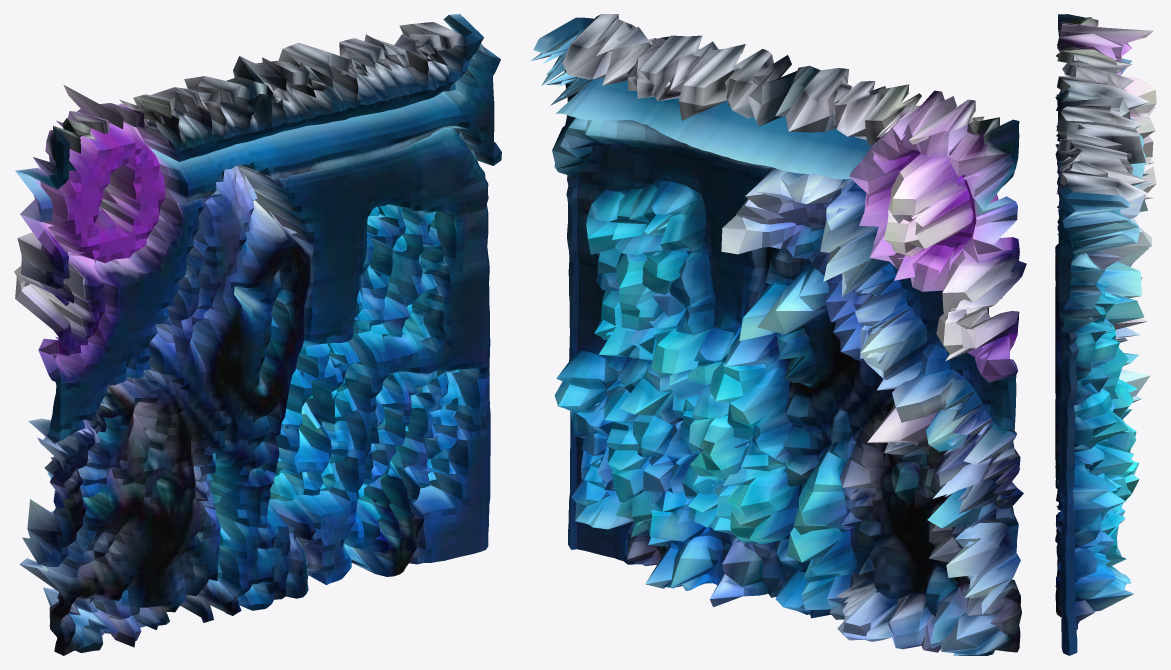
Rendered from hacker-n7-relief.glb.
3 views of the same model, side by side, from view 1: azimuth 30°, elevation 25°; view 2: azimuth 150°, elevation 25°; view 3: azimuth 270°, elevation 25° (orthographic). The views are drawn at different scales.
Parts seen in each view (by area): view 1: RELIEF_REFERENCE_hacker-n7; view 2: RELIEF_REFERENCE_hacker-n7; view 3: RELIEF_REFERENCE_hacker-n7.
Part boxes in pixels (x1,y1,x2,y2): RELIEF_REFERENCE_hacker-n7: [14, 14, 501, 655]; RELIEF_REFERENCE_hacker-n7: [531, 14, 1026, 655]; RELIEF_REFERENCE_hacker-n7: [1055, 14, 1156, 655].
Bounding box in the file's own units: 3.14 × 3.55 × 0.6868.
Materials: 1 (1 with a texture image).
